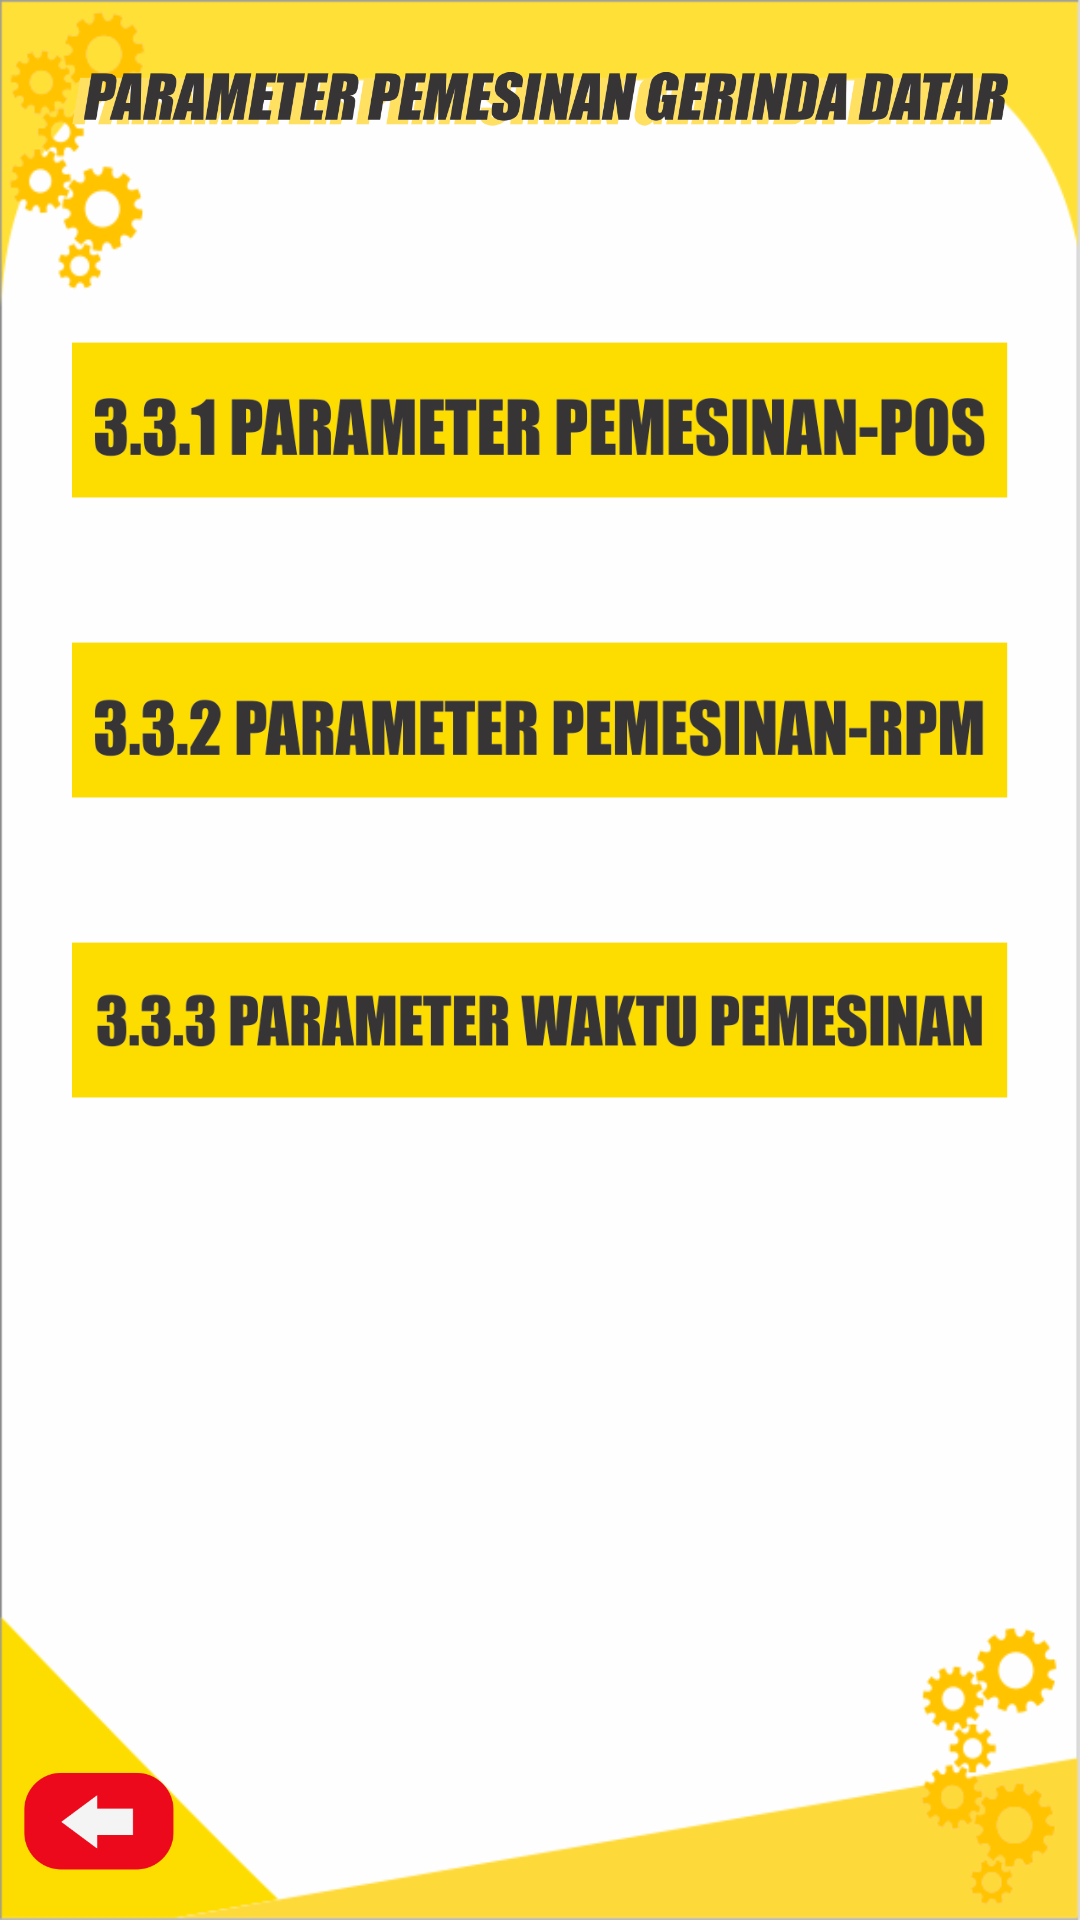

Named icons in this screenshot (1080×1920) and their bounding boxes, (x1, y1, x2, y2):
back: (24, 1746, 174, 1870)
